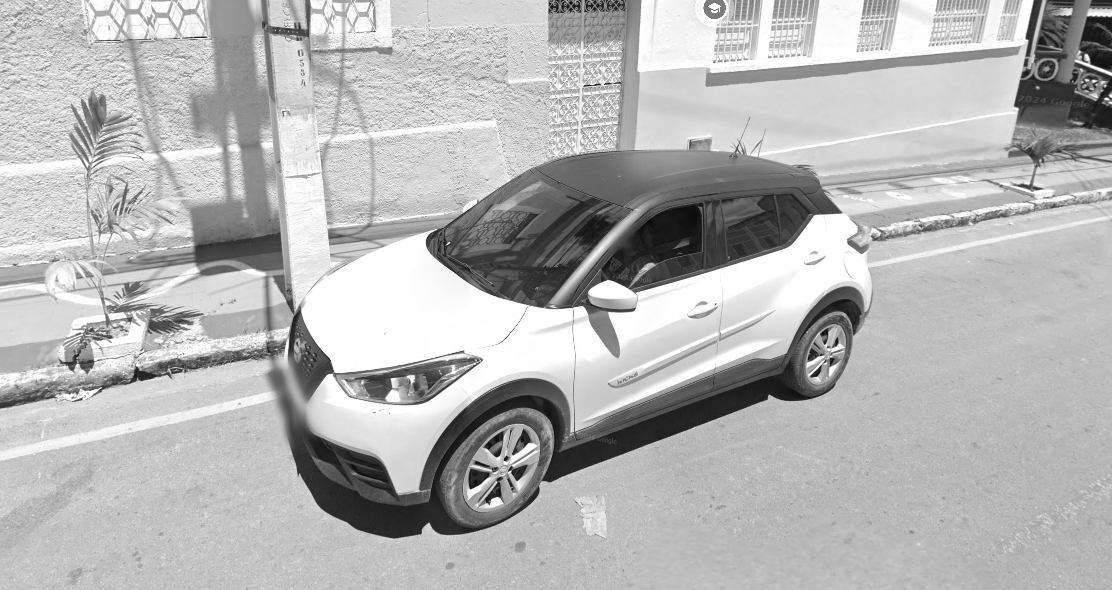car: (275, 112, 884, 538)
